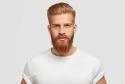male: (45, 6, 78, 53)
